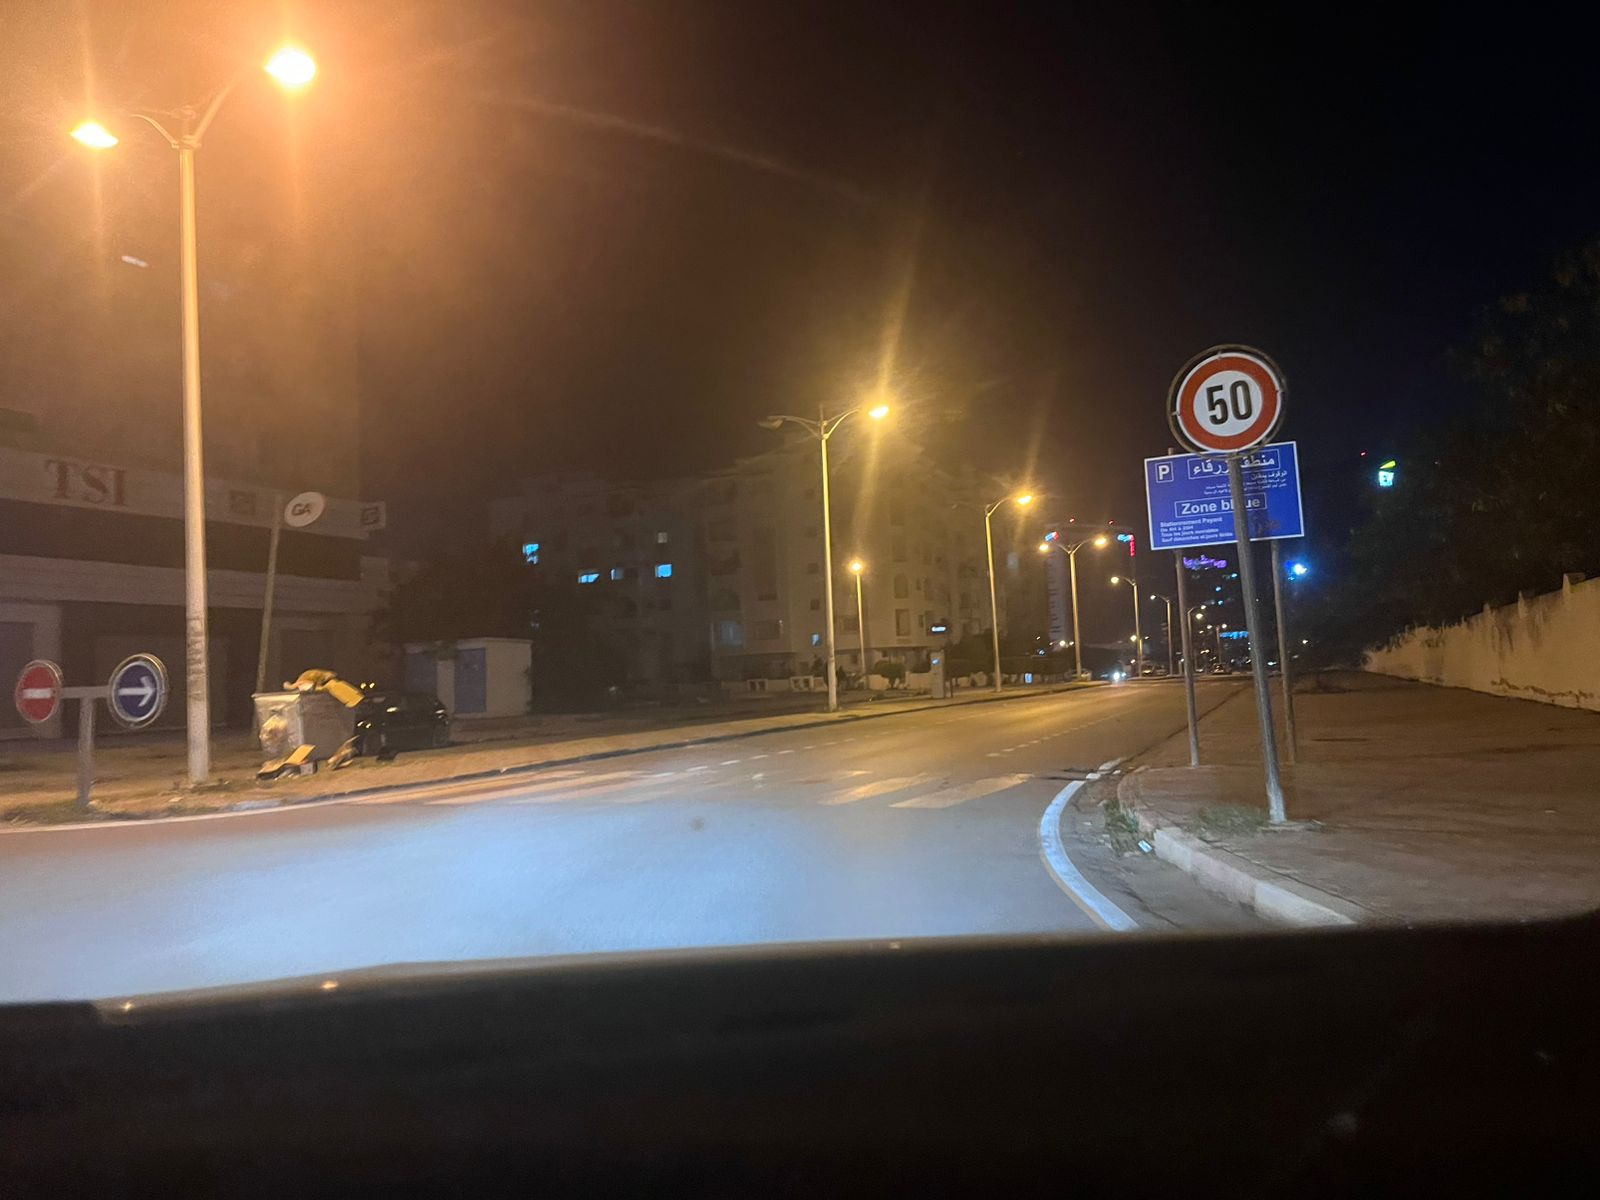SpeedLimit50: (1169, 342, 1295, 455)
